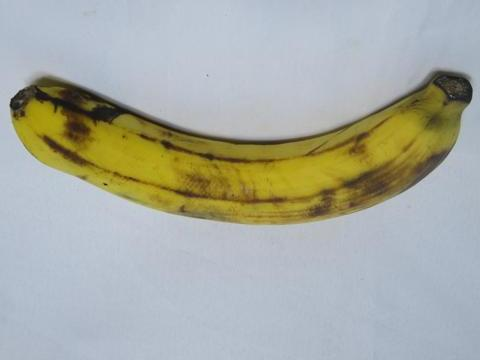overripe: (3, 56, 479, 242)
